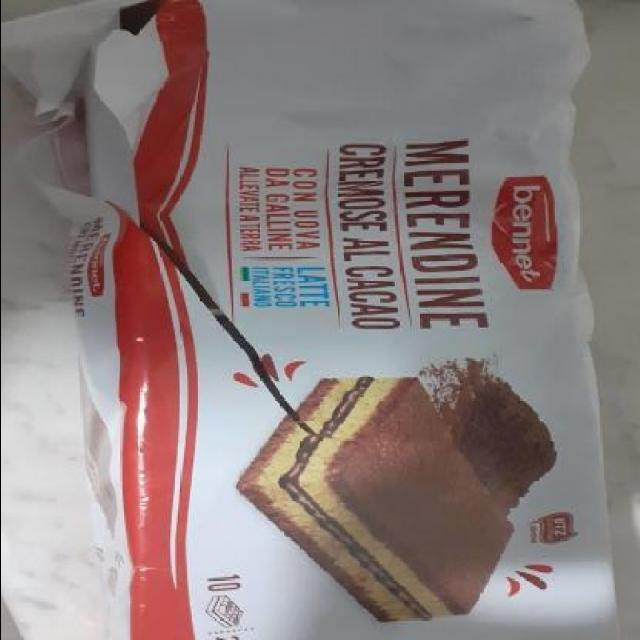Merendine: (34, 3, 623, 639)
Merendine packaged: (232, 374, 514, 626)
